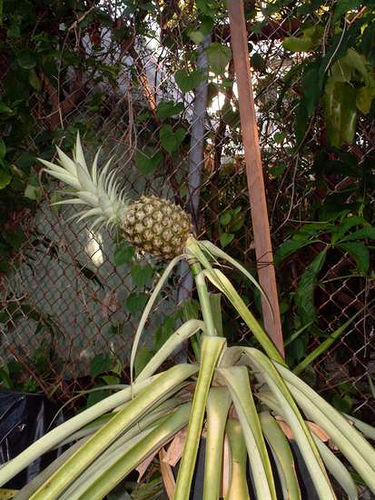pineapple: (33, 132, 192, 258)
